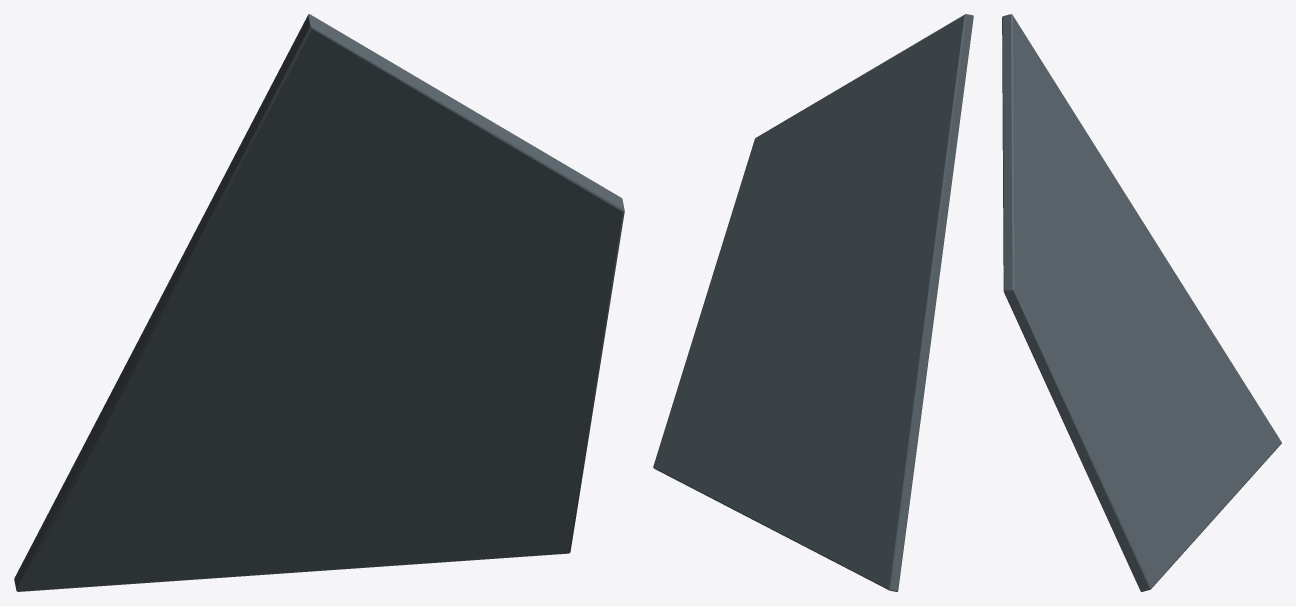
3 views of the same model, side by side, from view 1: azimuth 30°, elevation 25°; view 2: azimuth 150°, elevation 25°; view 3: azimuth 270°, elevation 25° (orthographic). The views are drawn at different scales.
Visible parts, largest first — view 1: Cube.011; view 2: Cube.011; view 3: Cube.011.
Part boxes in pixels (box(x1,y1,x2,y2)): Cube.011: box(14, 14, 624, 591); Cube.011: box(653, 14, 973, 591); Cube.011: box(1002, 14, 1281, 591).
Size of the model in its own units: 1.92 by 2.79 by 1.53.
1 material, 1 textured.
